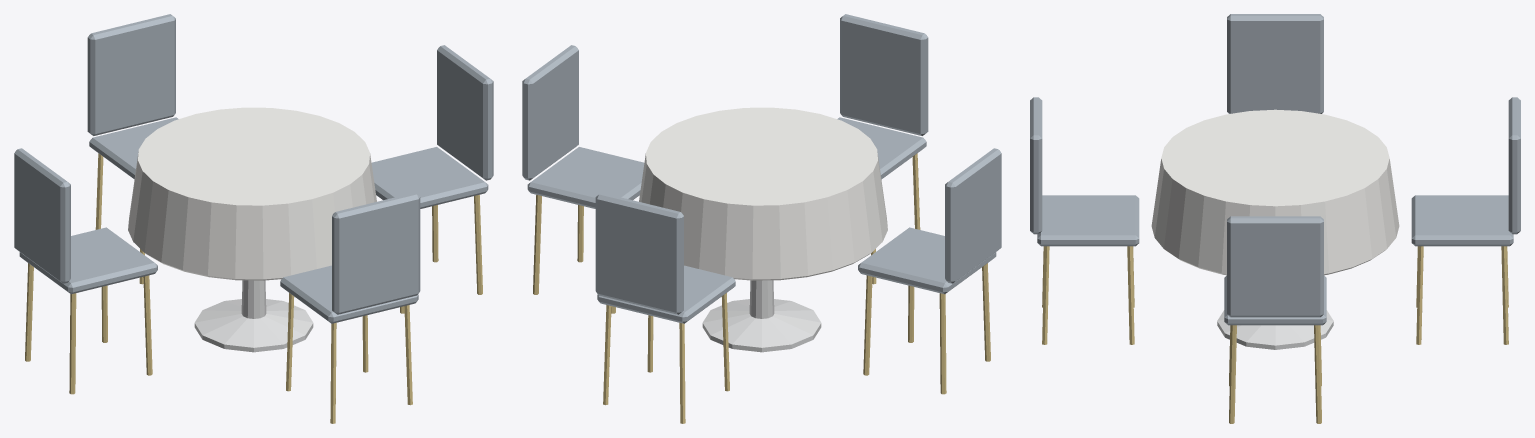
File: table_set.glb
3 views of the same model, side by side, from view 1: azimuth 30°, elevation 25°; view 2: azimuth 150°, elevation 25°; view 3: azimuth 270°, elevation 25° (orthographic).
Visible parts, largest first — view 1: table_set_fabric, table_set_linen, table_set_gold, table_set_steel; view 2: table_set_fabric, table_set_linen, table_set_gold, table_set_steel; view 3: table_set_fabric, table_set_linen, table_set_gold, table_set_steel.
Boxes of the visible parts, x1,y1,x2,y2 form: table_set_fabric: [14, 14, 493, 323]; table_set_linen: [128, 107, 376, 280]; table_set_gold: [25, 153, 482, 423]; table_set_steel: [194, 280, 313, 352]; table_set_fabric: [522, 14, 1001, 323]; table_set_linen: [639, 107, 887, 280]; table_set_gold: [533, 153, 990, 423]; table_set_steel: [702, 280, 821, 352]; table_set_fabric: [1030, 14, 1520, 325]; table_set_linen: [1151, 109, 1399, 275]; table_set_gold: [1042, 246, 1508, 423]; table_set_steel: [1217, 310, 1333, 349].
Size of the model in its own units: 2.02 by 0.9504 by 2.02.
